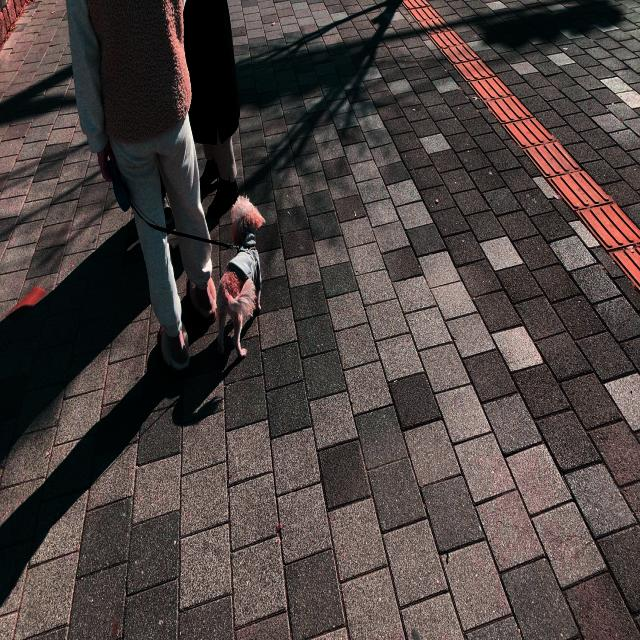Leashed_Dog: (184, 176, 266, 359)
